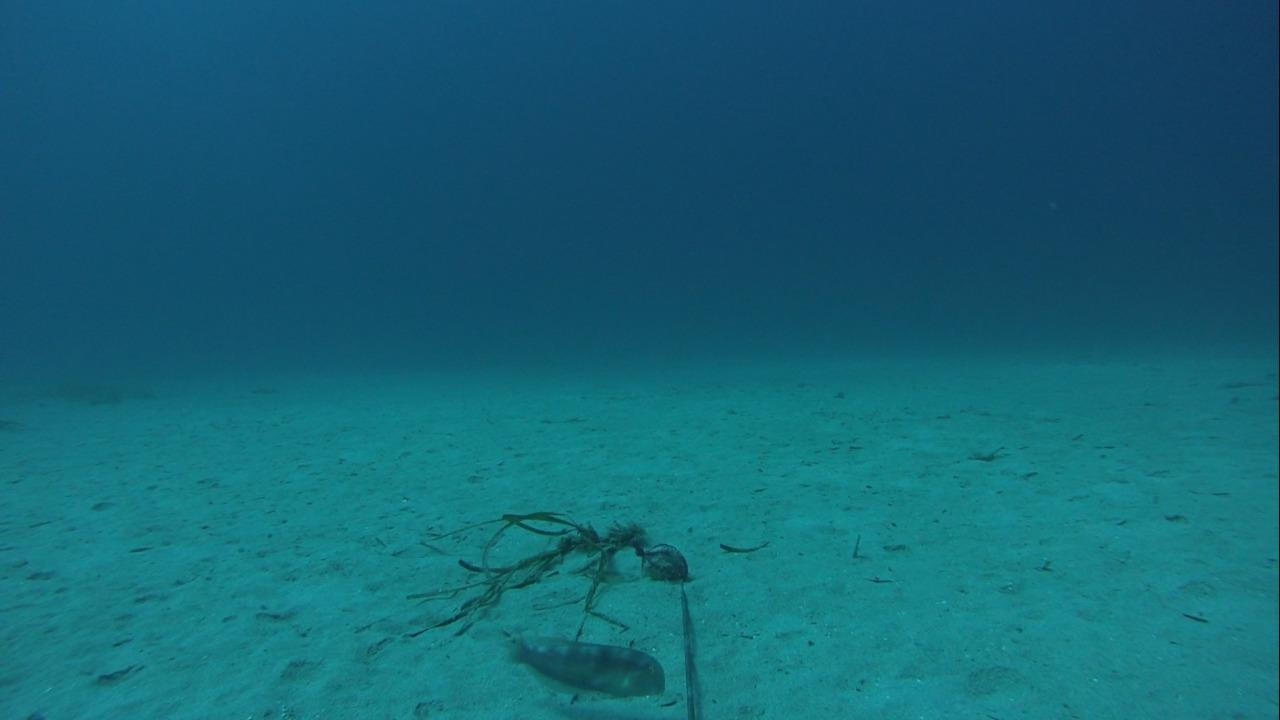raor: (499, 632, 671, 702)
